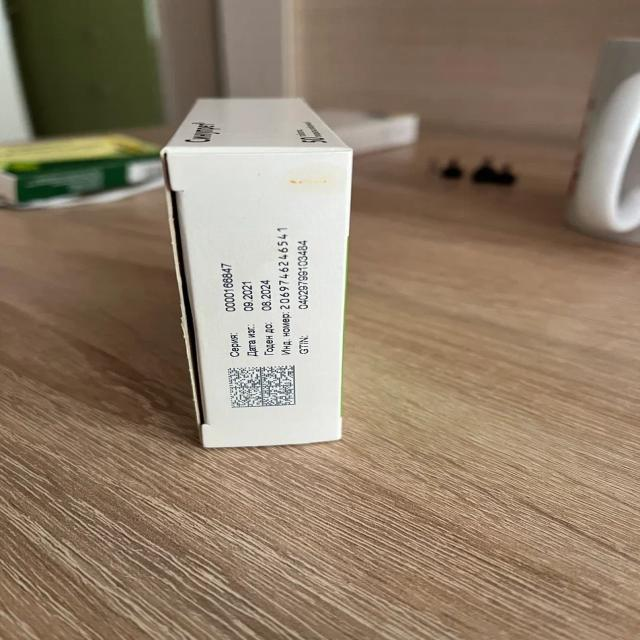datamatrix: (227, 366, 298, 410)
